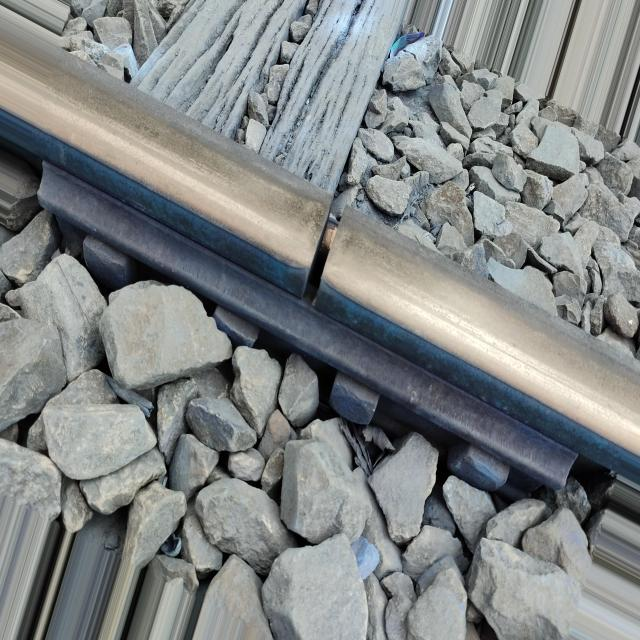crack: (281, 182, 361, 315)
